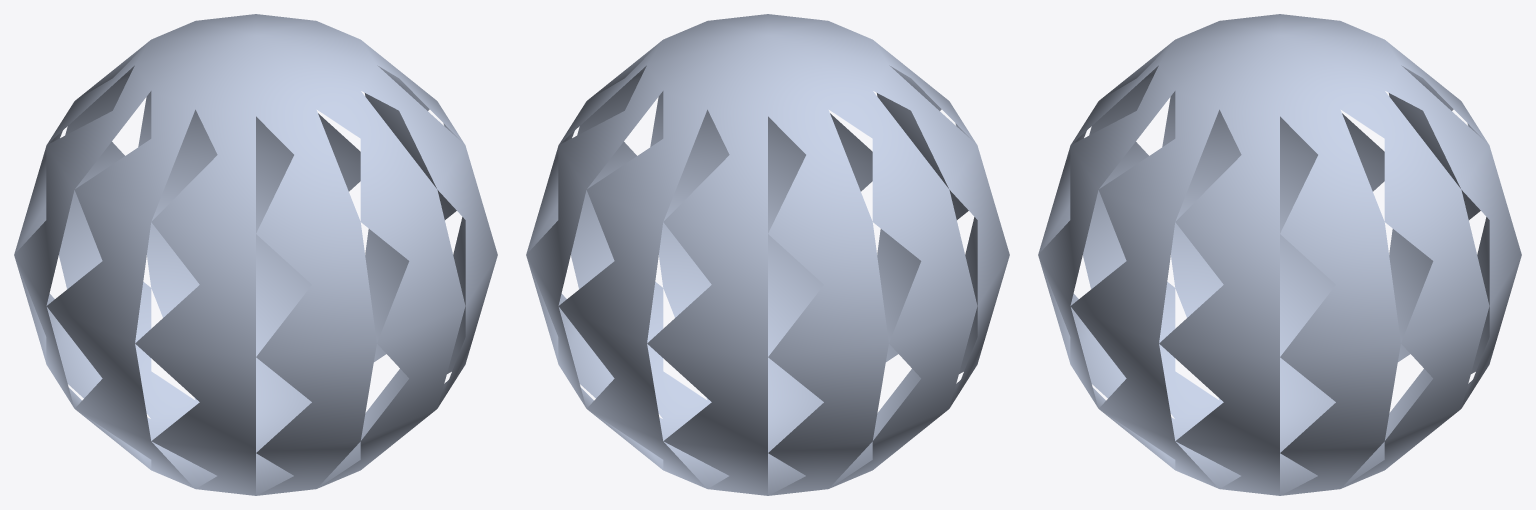
3 renders of one model, left to right at view 1: azimuth 30°, elevation 25°; view 2: azimuth 150°, elevation 25°; view 3: azimuth 270°, elevation 25°, orthographic.
Parts seen in each view (by area): view 1: Sphere; view 2: Sphere; view 3: Sphere.
Boxes of the visible parts, box(x1,y1,x2,y2) form: Sphere: box(14, 14, 497, 495); Sphere: box(526, 14, 1009, 495); Sphere: box(1038, 14, 1521, 495).
Size of the model in its own units: 2 by 1.87 by 2.
